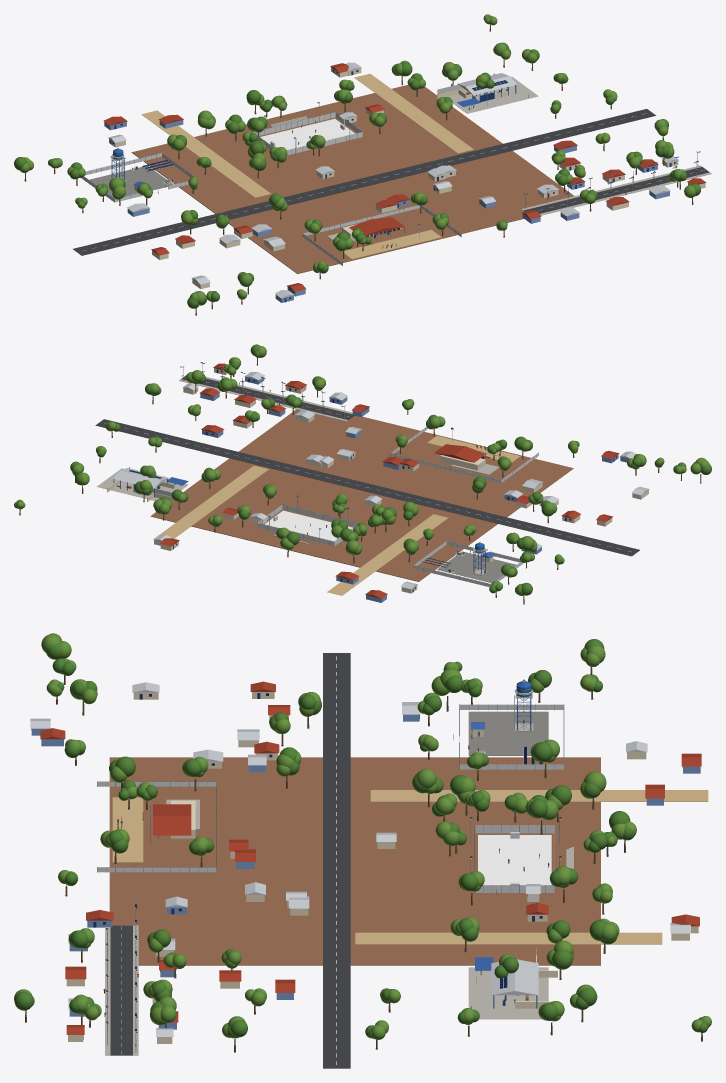
The model's file is Commune_ensemble.glb.
3 renders of one model, top to bottom at view 1: azimuth 30°, elevation 25°; view 2: azimuth 150°, elevation 25°; view 3: azimuth 270°, elevation 25°, orthographic. The views are drawn at different scales.
Size of the model in its own units: 320 by 17.85 by 227.
